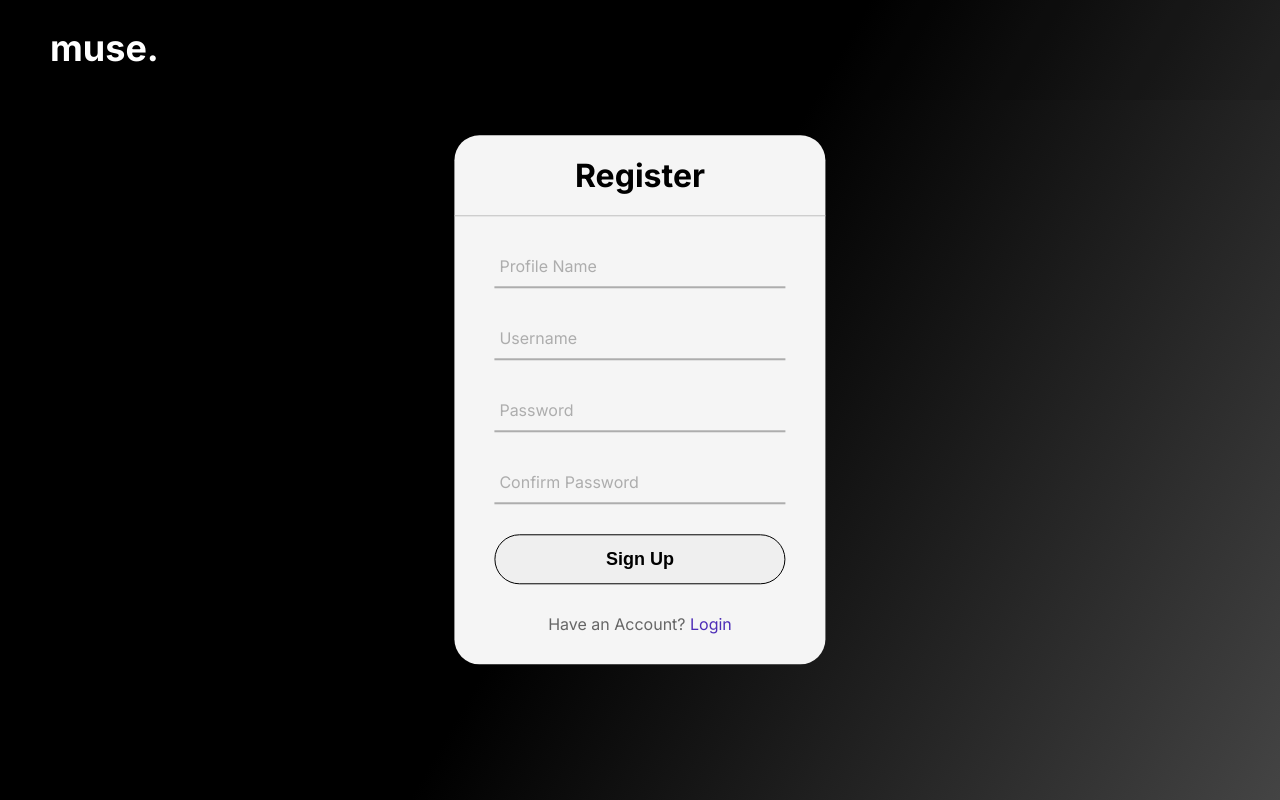
Test: Register Component › shows error message if passwords do not match after 3 seconds
The image size is (1280, 800).
Type "password123" into the password field labelled "Password" at x=645, y=411, box [494,391,796,431]
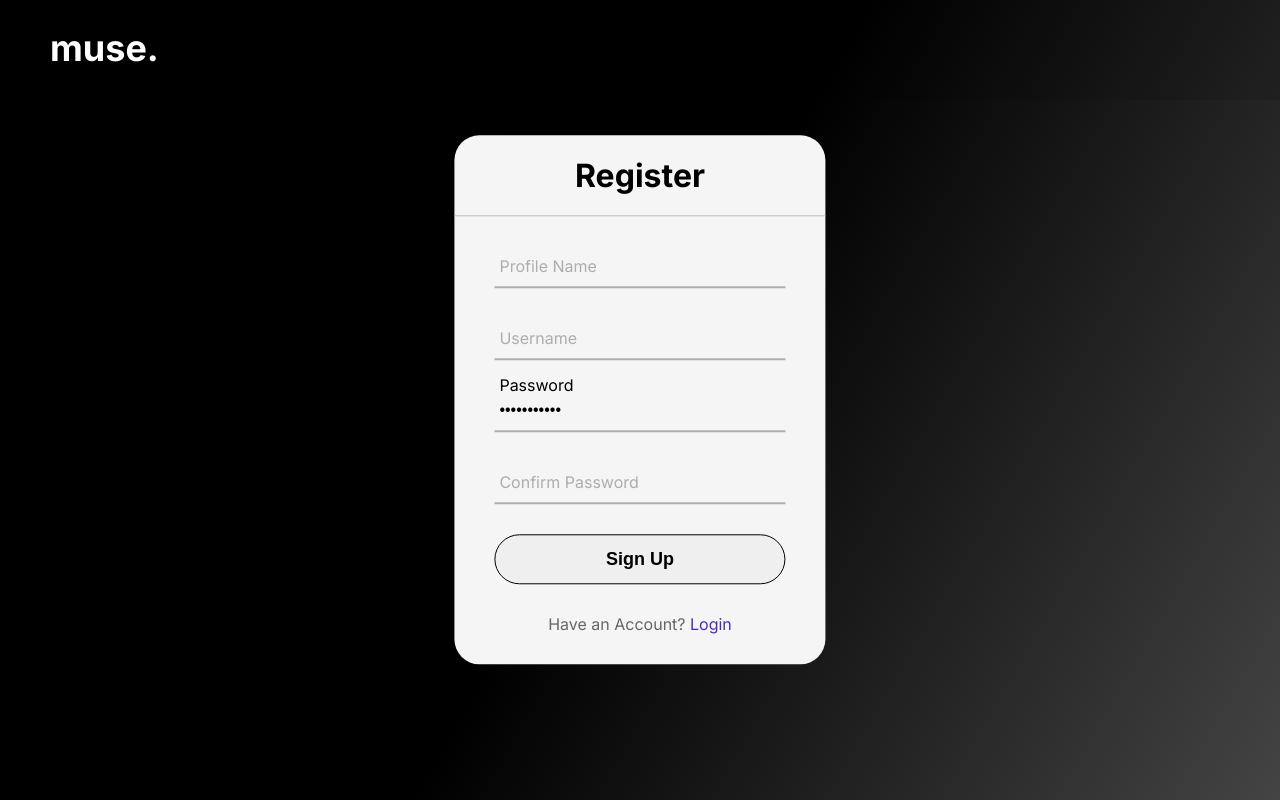
Type "password321" into the password field labelled "Confirm Password" at x=645, y=483, box [494,463,796,503]
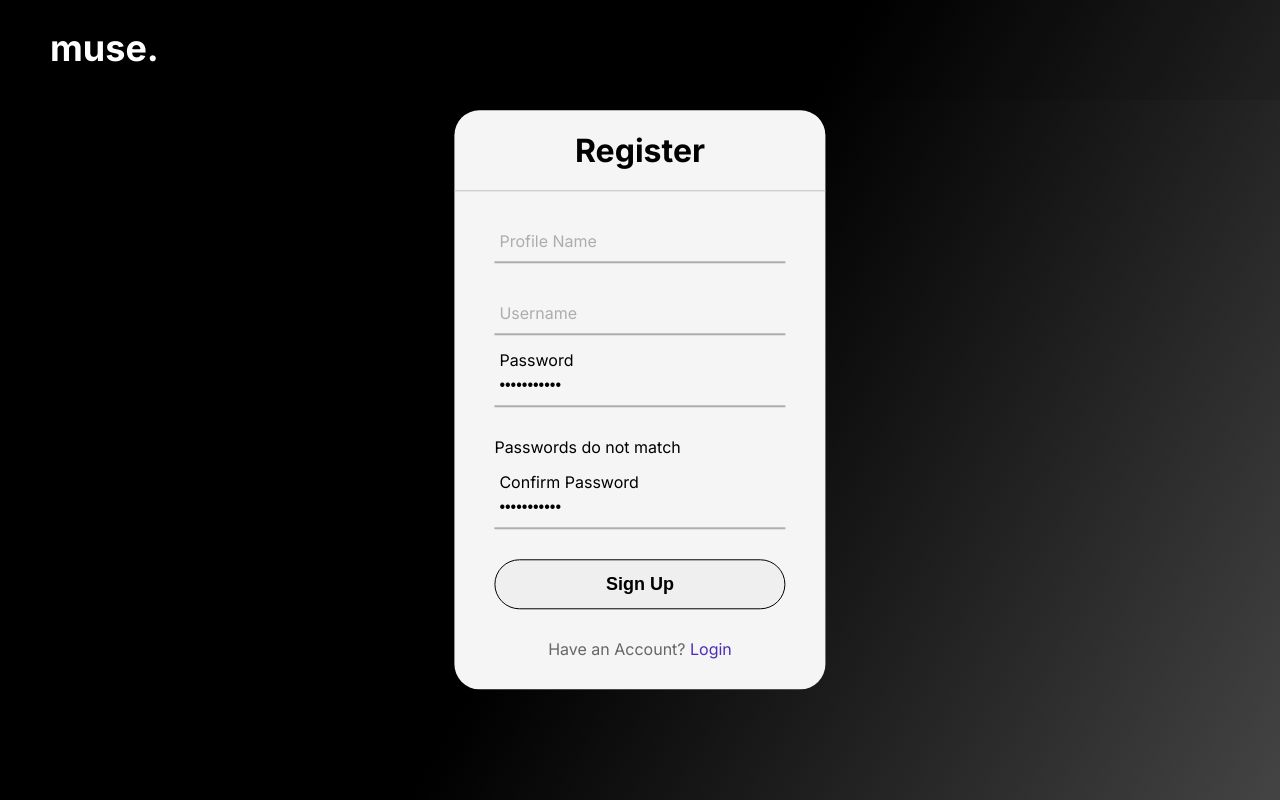
Now the text "Passwords do not match" is shown, box [494,438,681,458]
